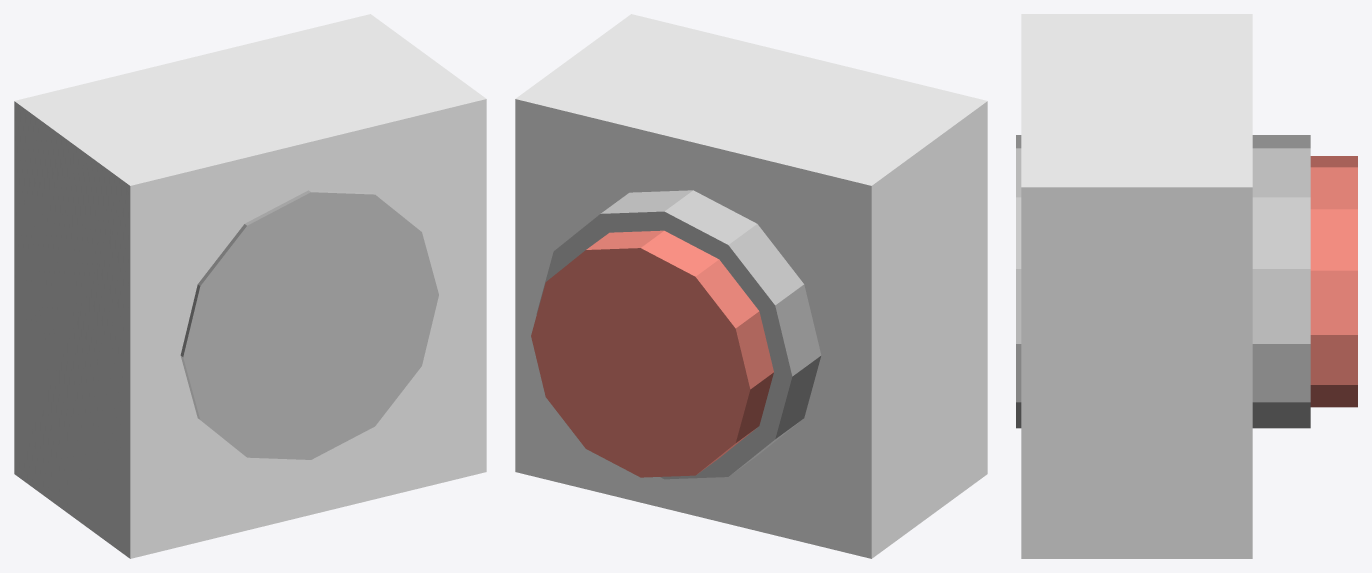
Rendered from button.fbx.
The picture shows the model from 3 angles, left to right: view 1: azimuth 30°, elevation 25°; view 2: azimuth 150°, elevation 25°; view 3: azimuth 270°, elevation 25°; orthographic projection.
Visible parts, largest first — view 1: mesh2105204371, mesh1593787975; view 2: mesh2105204371, mesh780585218, mesh1593787975; view 3: mesh2105204371, mesh1593787975, mesh780585218.
Boxes of the visible parts, <box> form: mesh2105204371: <box>14,14,486,558</box>; mesh1593787975: <box>180,190,438,459</box>; mesh2105204371: <box>515,14,987,558</box>; mesh780585218: <box>531,230,773,477</box>; mesh1593787975: <box>536,190,821,479</box>; mesh2105204371: <box>1021,14,1252,558</box>; mesh1593787975: <box>1016,135,1310,428</box>; mesh780585218: <box>1310,156,1357,407</box>.
Bounding box in the file's own units: 78 × 78 × 65.
